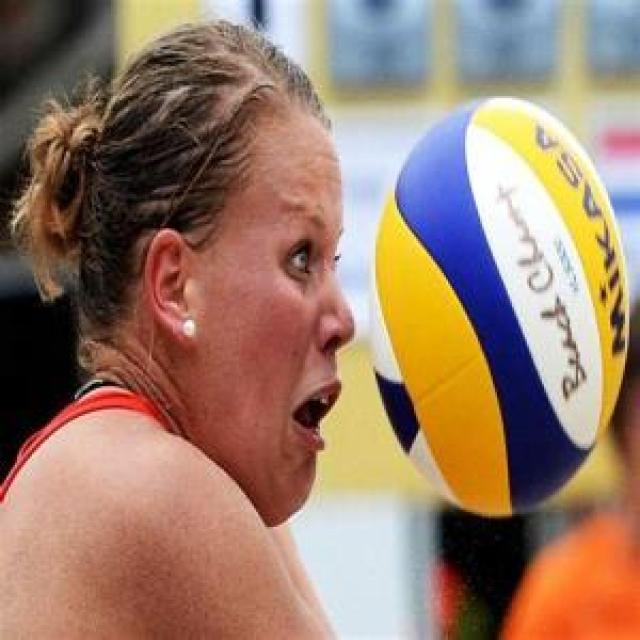volleyball: (370, 97, 628, 515)
